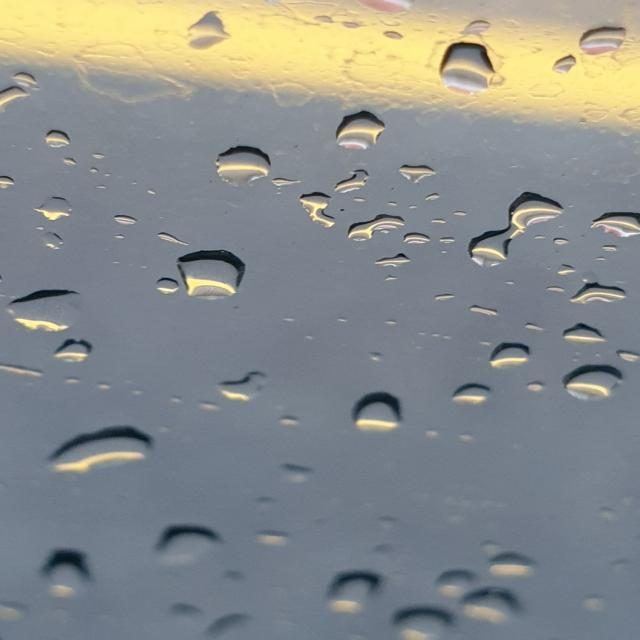raindrop: (34, 416, 164, 482), (472, 192, 560, 270), (298, 562, 390, 612), (2, 288, 99, 334), (144, 516, 226, 569), (188, 241, 250, 311), (320, 108, 398, 160), (212, 133, 277, 192), (434, 44, 502, 98), (40, 550, 106, 604), (414, 561, 491, 603), (331, 210, 404, 243), (25, 186, 85, 225), (346, 394, 404, 434), (0, 65, 42, 118), (317, 167, 377, 202), (560, 366, 620, 400), (465, 590, 525, 624), (484, 555, 559, 582), (391, 603, 445, 640), (185, 14, 232, 56), (587, 204, 640, 241), (202, 614, 275, 640), (577, 24, 627, 60), (210, 369, 266, 401), (299, 192, 343, 232), (546, 318, 604, 347), (483, 336, 525, 376), (26, 120, 75, 154), (0, 595, 42, 632), (275, 458, 325, 489), (49, 336, 103, 363), (433, 380, 488, 406), (154, 227, 188, 264), (381, 164, 438, 186), (244, 531, 287, 557), (373, 250, 418, 274), (564, 288, 620, 306), (39, 232, 71, 258), (551, 57, 578, 85), (150, 277, 180, 297), (115, 212, 140, 227)
